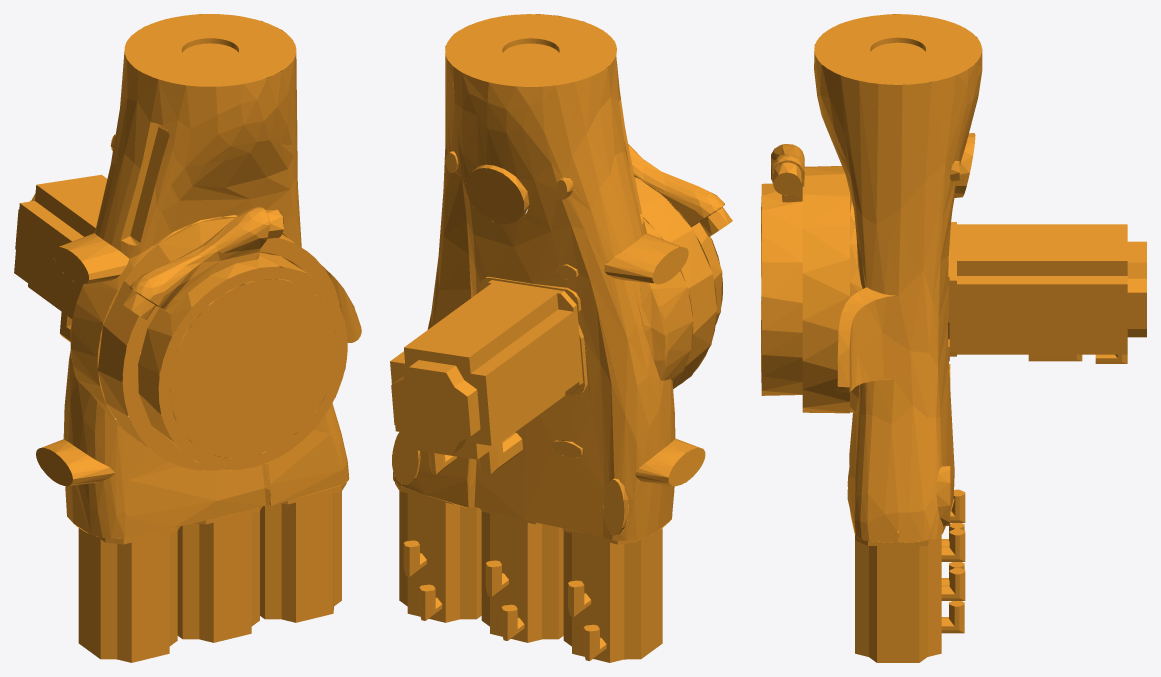
The model's file is Kuka361Link3.dae.
3 renders of one model, left to right at view 1: azimuth 30°, elevation 25°; view 2: azimuth 150°, elevation 25°; view 3: azimuth 270°, elevation 25°, orthographic. The views are drawn at different scales.
Visible parts, largest first — view 1: Kuka361Link3; view 2: Kuka361Link3; view 3: Kuka361Link3.
Part boxes in pixels (x1,y1,x2,y2): Kuka361Link3: [14, 14, 361, 662]; Kuka361Link3: [390, 14, 732, 662]; Kuka361Link3: [761, 14, 1146, 662].
Size of the model in its own units: 0.6421 by 0.7757 by 1.25.
